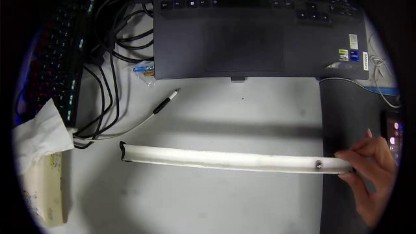gangzhu: (313, 160, 322, 171)
